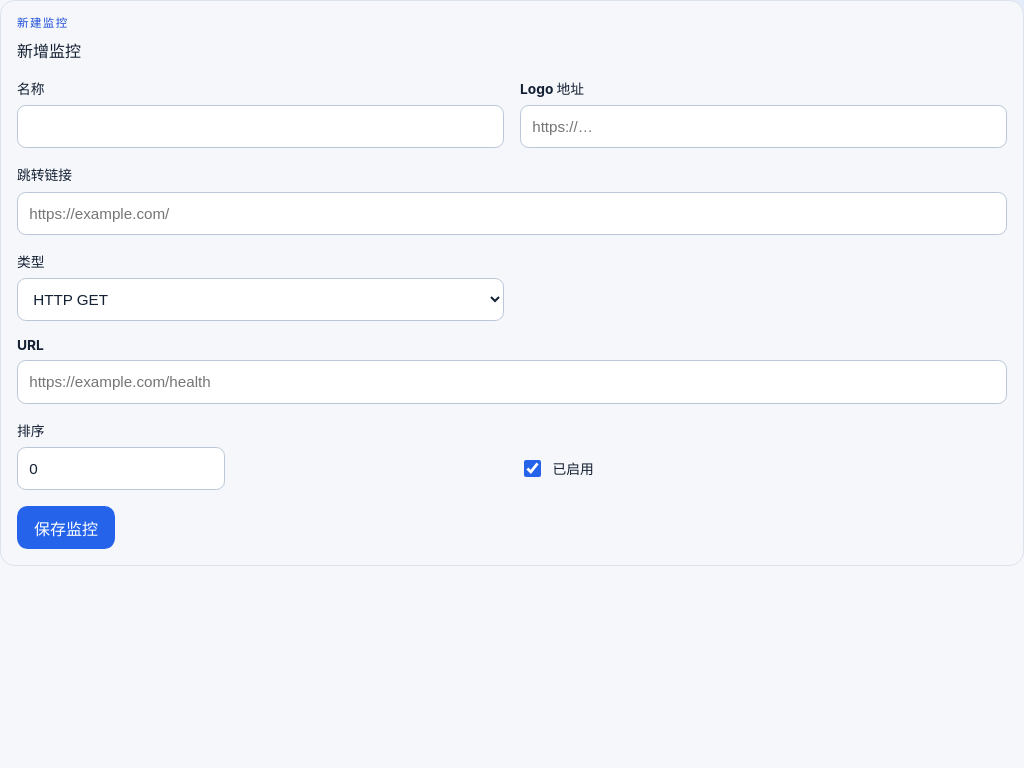
Test: admin UI › shows an HTTP URL and hides the TCP port until tcping is selected
The width and height of the screenshot is (1024, 768).
Expected: the field labelled "URL" is shown, left=17, top=360, right=1007, bottom=404
Expected: the field labelled "端口" is not shown
Select "TCPing" in the dropdown labelled "类型" at (260, 300), box left=17, top=278, right=504, bottom=321
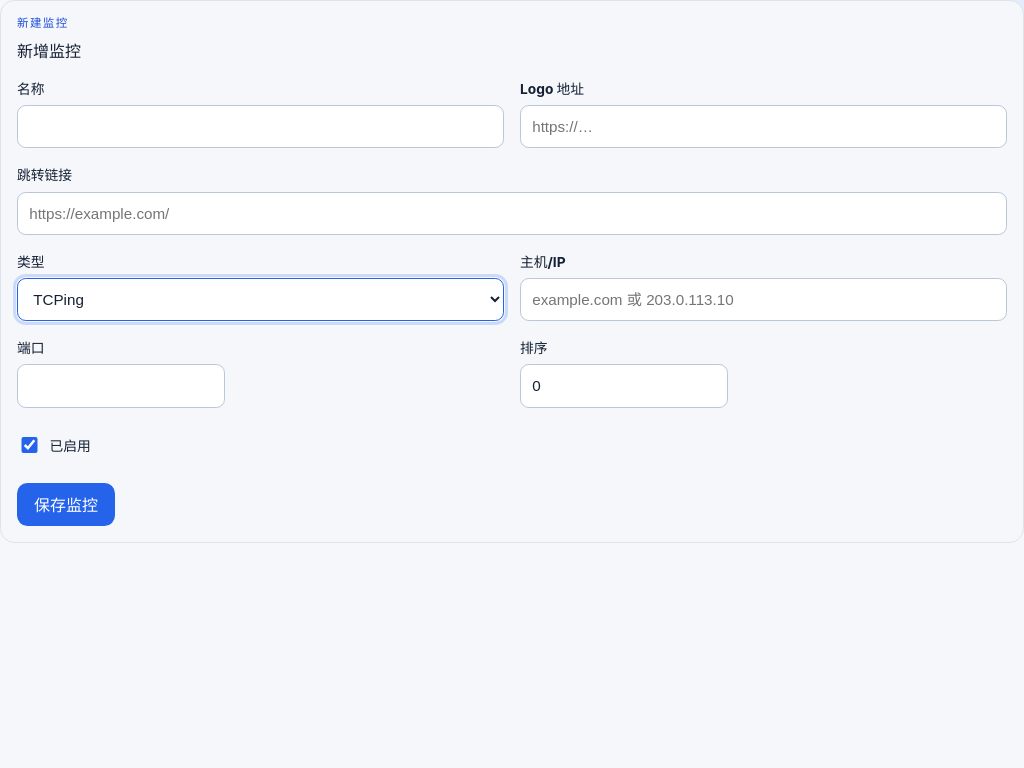
Expected: the field labelled "主机/IP" is shown, left=520, top=278, right=1007, bottom=321
Expected: the number field labelled "端口" is shown, left=17, top=364, right=225, bottom=408
Expected: the text labelled "URL" is gone
